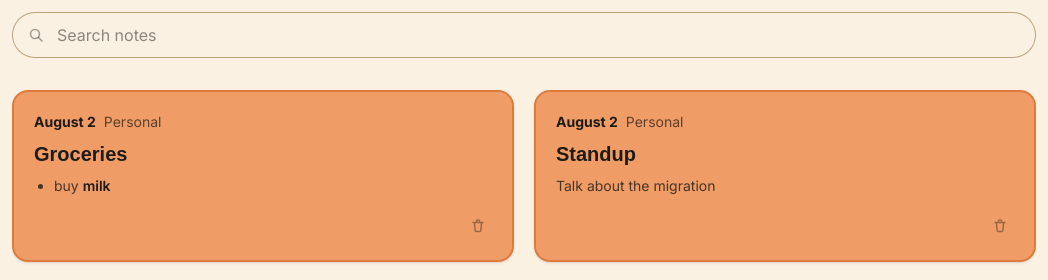
NoteSearch › offers the in-field clear button only while searching, and returns focus to the field
The image size is (1048, 280).
Type "grocer" into the search field labelled "Search notes" at (524, 35), box [12,12,1036,58]
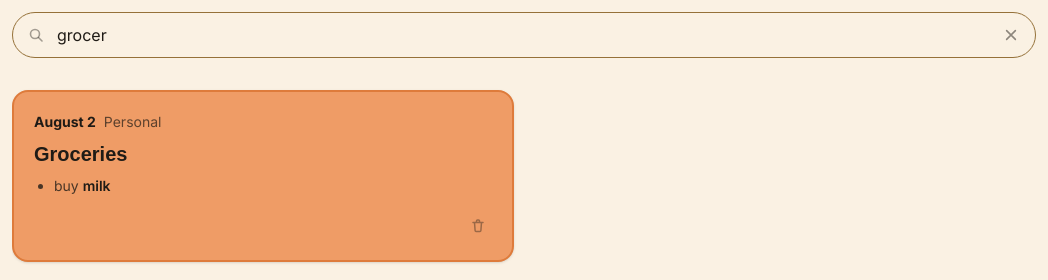
Click the button named "Clear search" at (1011, 35), box [1000,24,1022,46]
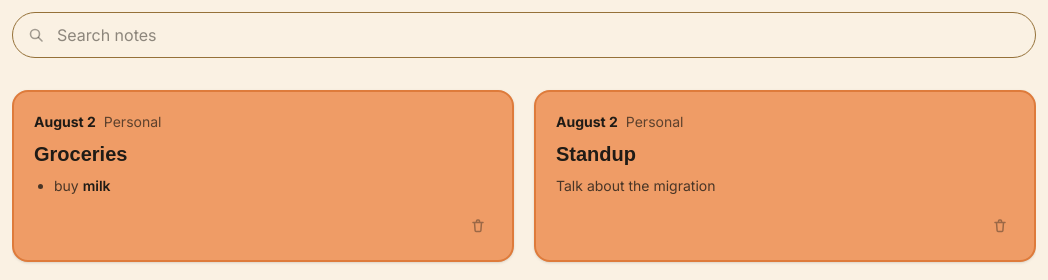
Now the search field labelled "Search notes" is empty, box [12,12,1036,58]
